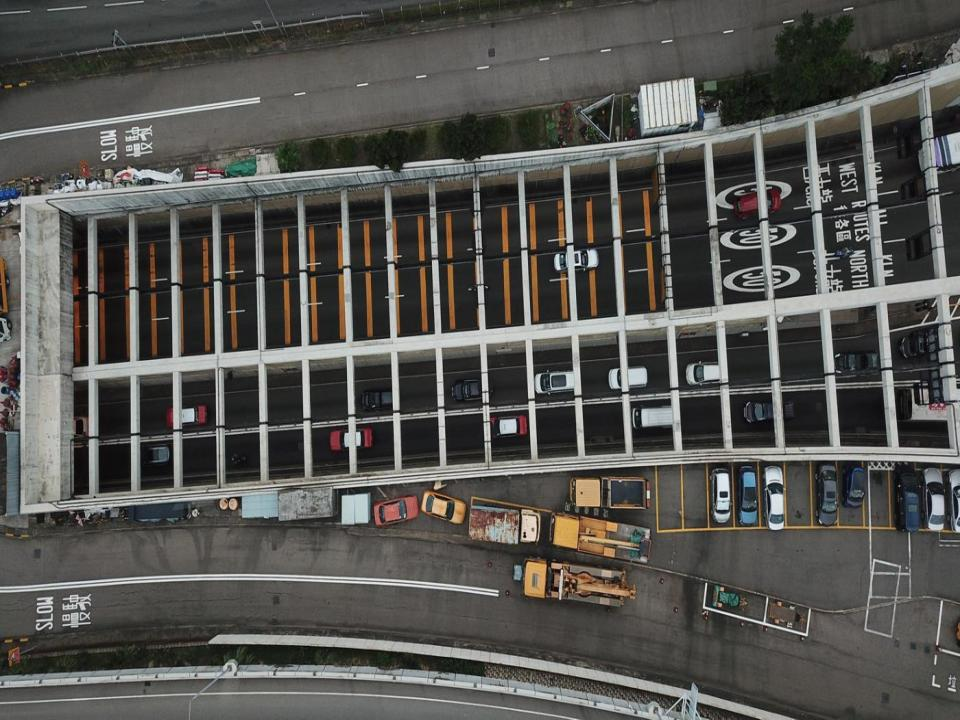bus: (884, 386, 960, 422), (917, 132, 960, 176)
car: (920, 468, 946, 530), (420, 490, 466, 524), (762, 466, 786, 530), (815, 463, 838, 527), (374, 494, 418, 526), (834, 348, 880, 377), (900, 333, 950, 359), (553, 247, 599, 273), (710, 468, 732, 522), (738, 466, 758, 525), (329, 428, 372, 452), (842, 466, 866, 509), (166, 404, 208, 428), (54, 414, 91, 439), (946, 469, 960, 532), (486, 415, 526, 437)
truck: (513, 556, 636, 608), (548, 511, 652, 564), (468, 505, 541, 545), (570, 475, 650, 509), (0, 257, 12, 341)
van: (893, 465, 921, 532), (734, 188, 781, 219), (743, 398, 794, 423), (535, 368, 579, 396), (630, 404, 680, 428), (132, 443, 176, 468), (686, 360, 726, 387), (608, 366, 648, 391), (451, 378, 492, 402), (361, 387, 397, 413)
